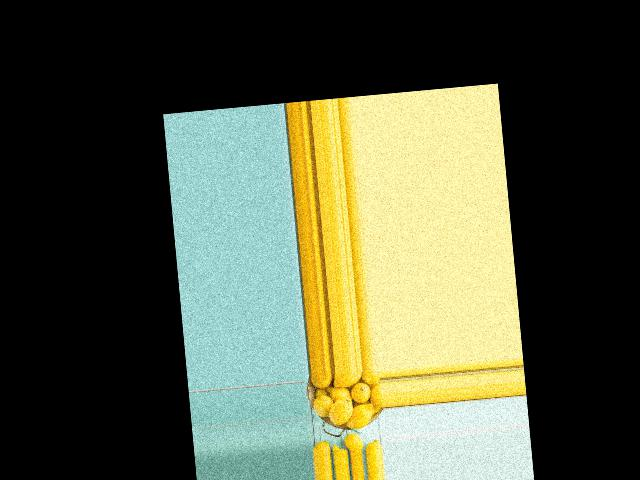lemon: (357, 369, 379, 384)
